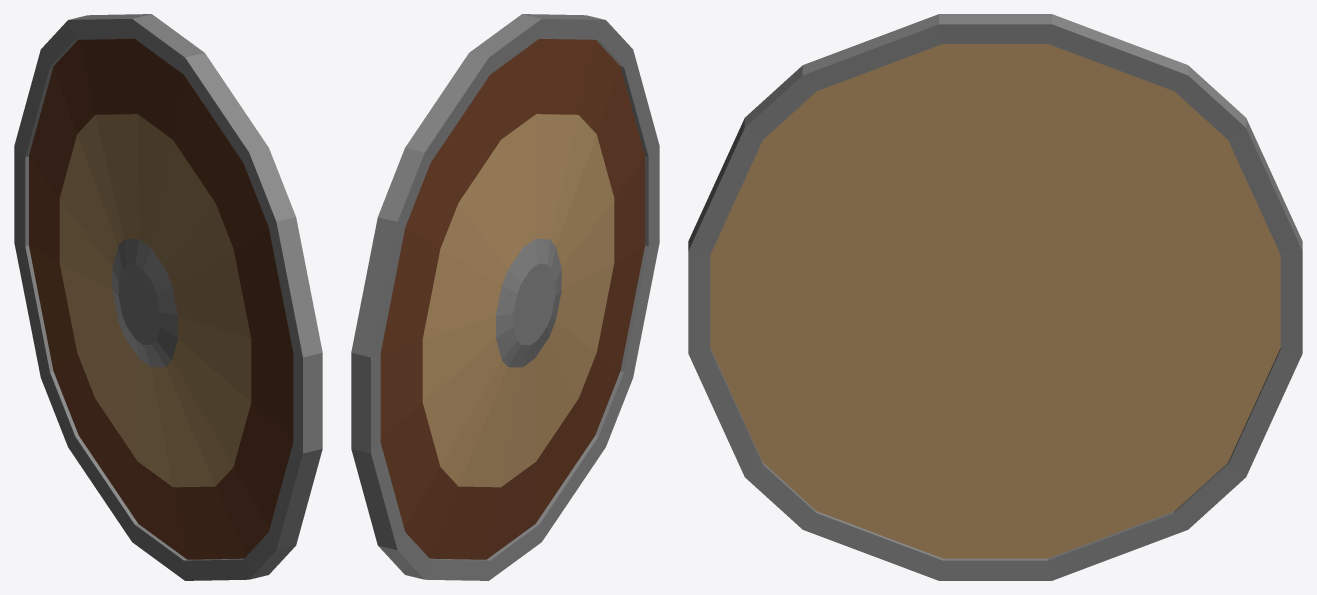
The model's file is shield.dae.
3 views of the same model, side by side, from view 1: azimuth 30°, elevation 25°; view 2: azimuth 150°, elevation 25°; view 3: azimuth 270°, elevation 25° (orthographic). The views are drawn at different scales.
Parts seen in each view (by area): view 1: Cube; view 2: Cube; view 3: Cube.
Boxes of the visible parts, x1,y1,x2,y2 form: Cube: (14,14,322,580); Cube: (351,14,659,580); Cube: (688,14,1302,580).
Size of the model in its own units: 0.1555 by 2 by 2.
